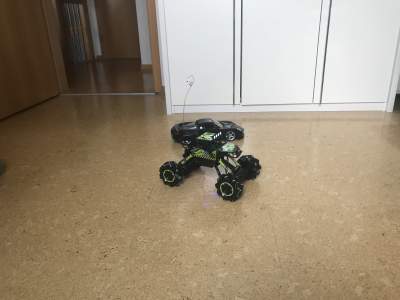remote control car: (157, 132, 263, 202)
